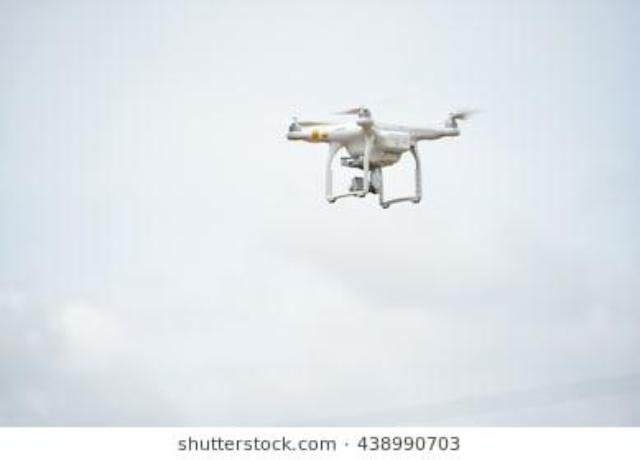drone: (264, 56, 492, 228)
